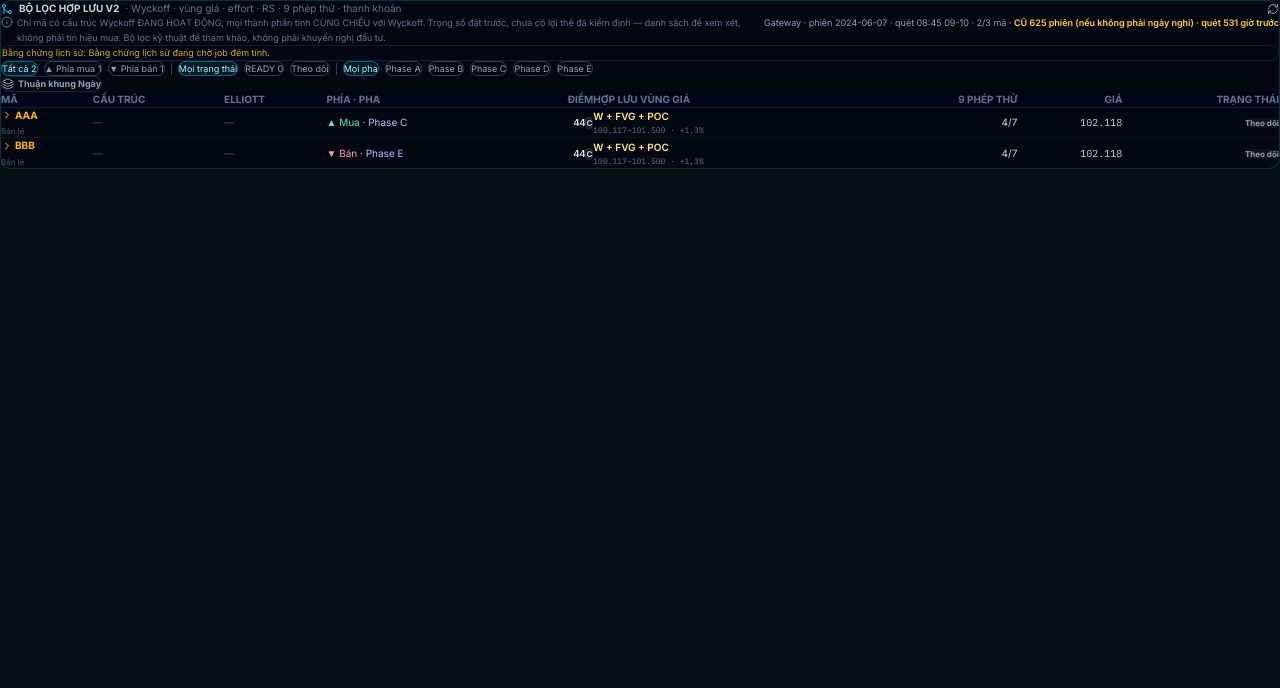
Test: Bảng phụ Hợp lưu v2 (H3) › mô phỏng Wyckoff giá thật + sơ đồ mẫu cùng pha hiện tại, chuỗi sự kiện thực tế, thành phần điểm, mức hợp lưu
This screenshot has width=1280, height=688.
Click the button with aria-label "Phân tích chuyên sâu AAA".
click(19, 115)  # box [1,108,38,123]
(page scrolled)
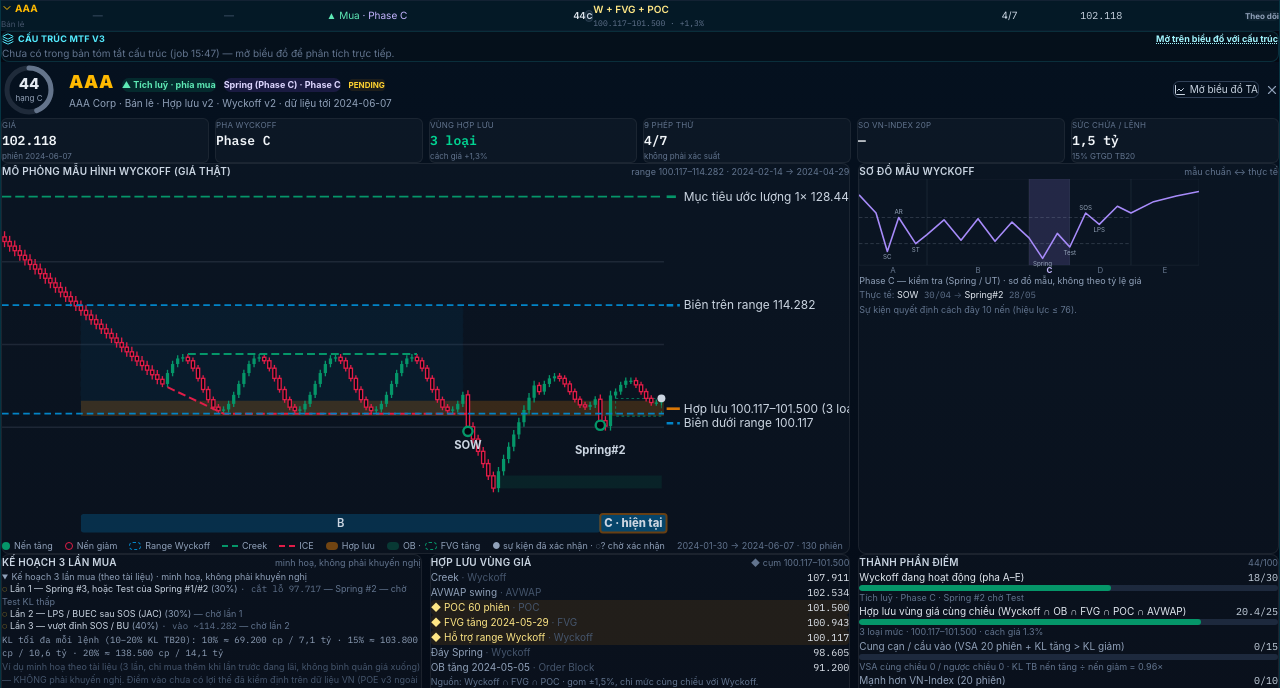
Check: the element with test id "wyckoff-sketch" is shown, box [2,179,849,553]
Check: the element with test id "deep-sequence" reads "Thực tế: SOW 30/04 → Spring#2 28/05", box [964,289,1004,300]
Check: the list with test id "deep-levels" is shown, box [431,570,849,675]
